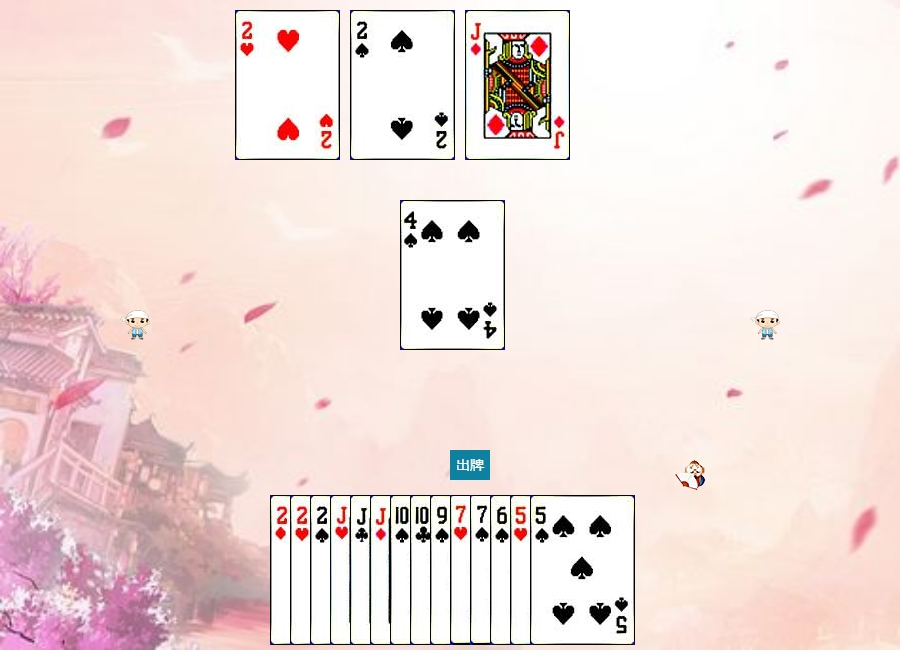10~2: (410, 495, 515, 645)
10~4: (390, 495, 495, 645)
11~1: (465, 10, 570, 160), (370, 495, 475, 645)
11~2: (350, 495, 455, 645)
11~3: (330, 495, 435, 645)
15~1: (270, 495, 375, 645)
15~3: (235, 10, 340, 160), (290, 495, 395, 645)
15~4: (350, 10, 455, 160), (310, 495, 415, 645)
4~4: (400, 200, 505, 350)
5~3: (510, 495, 615, 645)
5~4: (530, 495, 635, 645)
6~4: (490, 495, 595, 645)
7~3: (450, 495, 555, 645)
7~4: (470, 495, 575, 645)
9~4: (430, 495, 535, 645)
